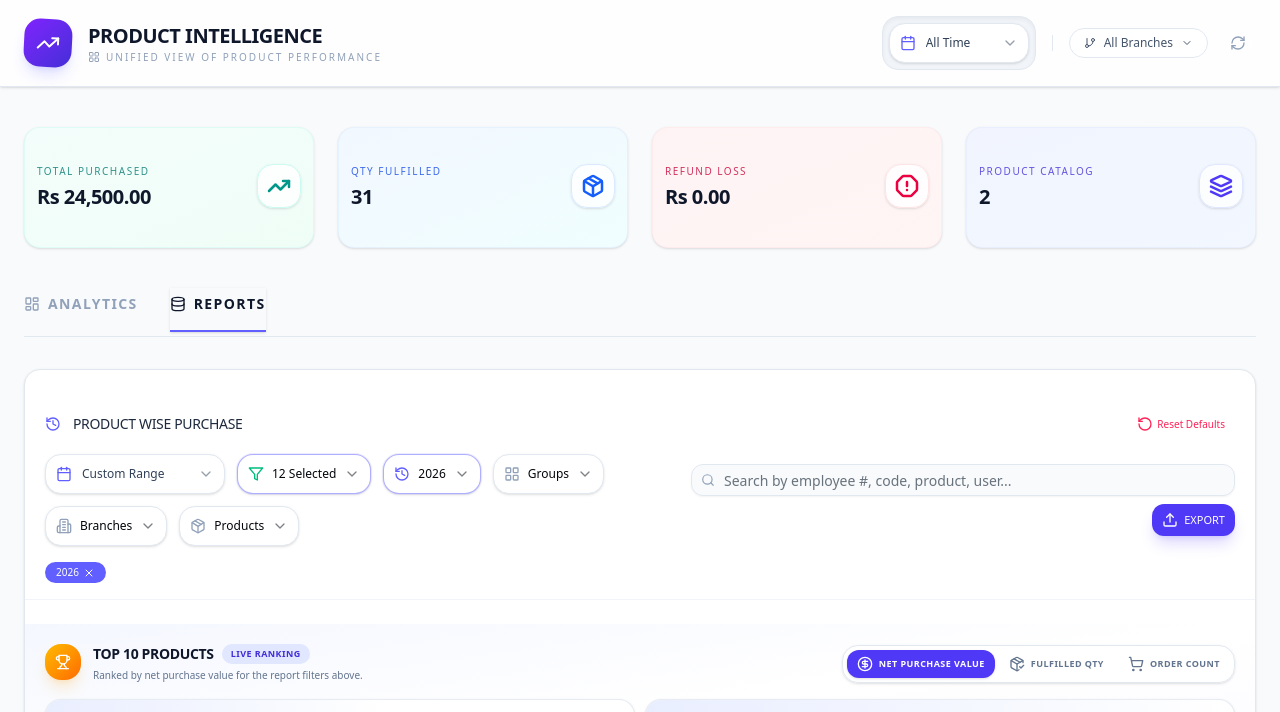
Test: Product Performance report › shows the order-line ledger on the reports tab and searches it by person, code or TID
Type "e-88" into the field with placeholder "Search by employee #, code, product, user..." at [963, 480], box [691,464,1235,496]
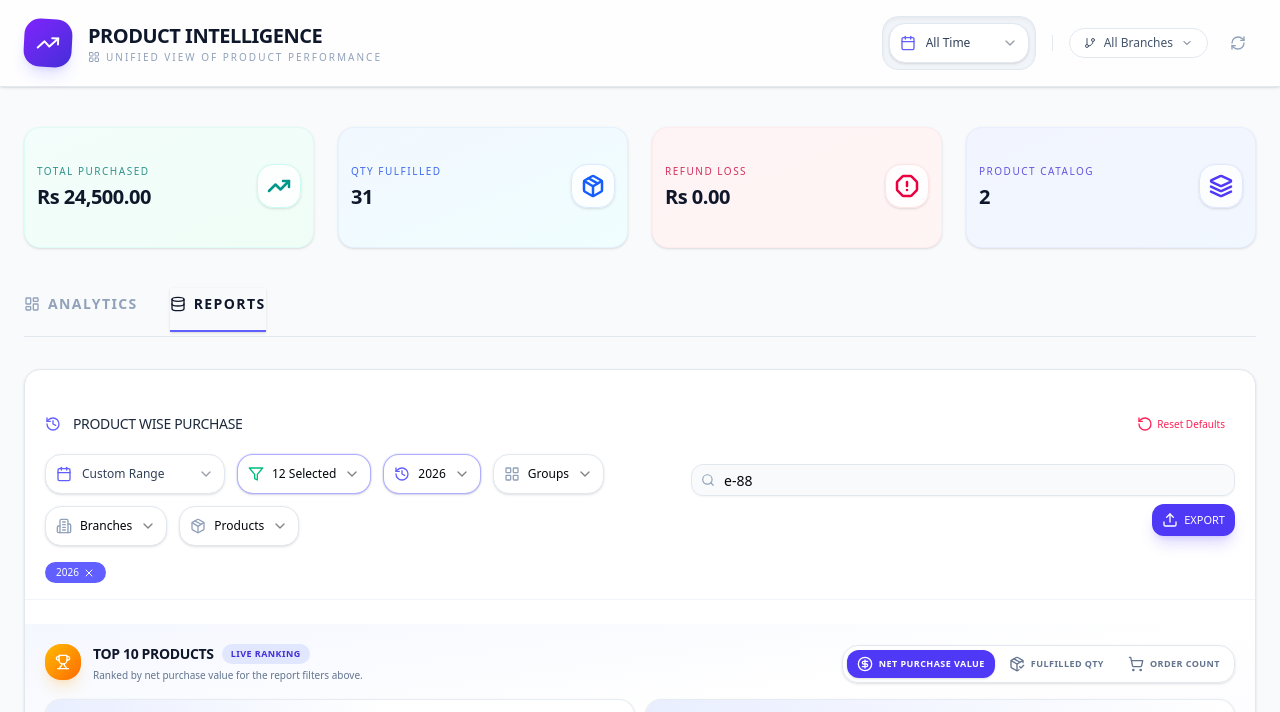
Replace the text in the field with placeholder "Search by employee #, code, product, user..." with "tid-0001" at [963, 480], box [691,464,1235,496]
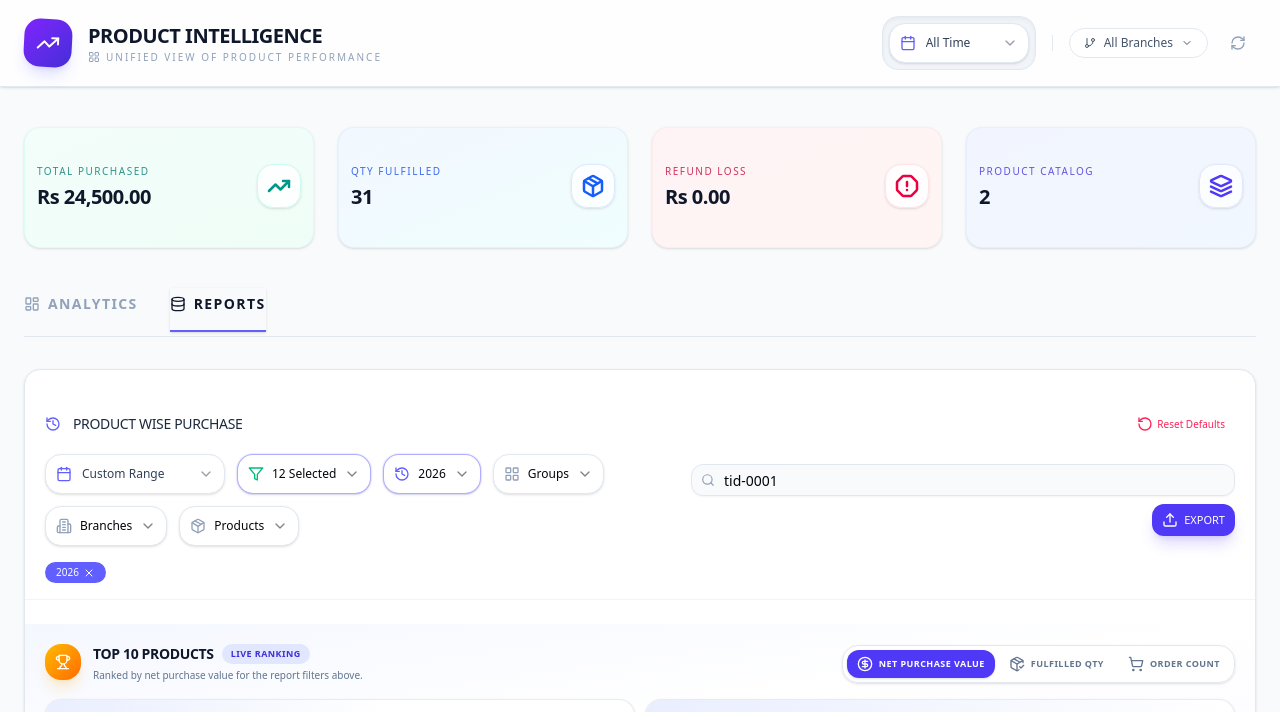
Expected: the text "TID-0002" is not shown
